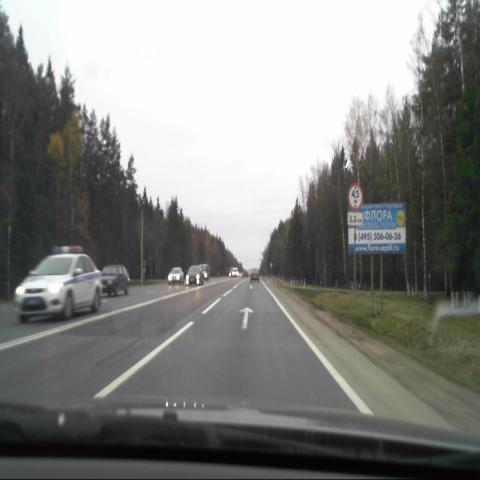3_13: (347, 183, 363, 210)
8_1_1: (347, 212, 363, 226)
